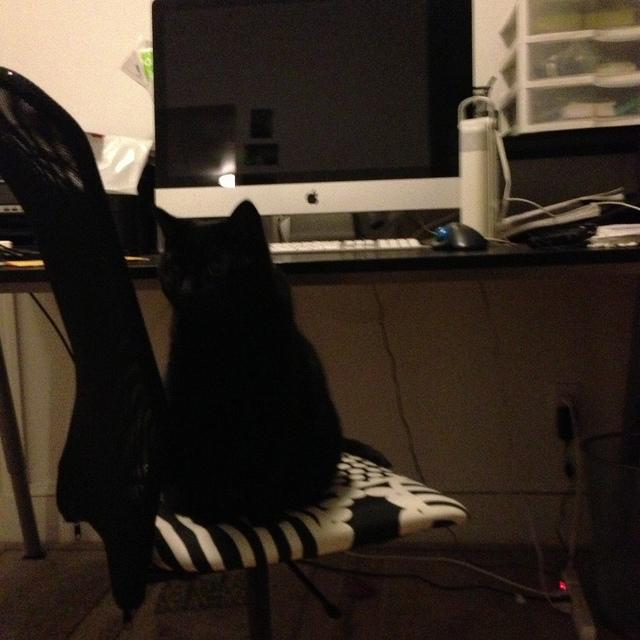apple: (308, 194, 318, 203)
